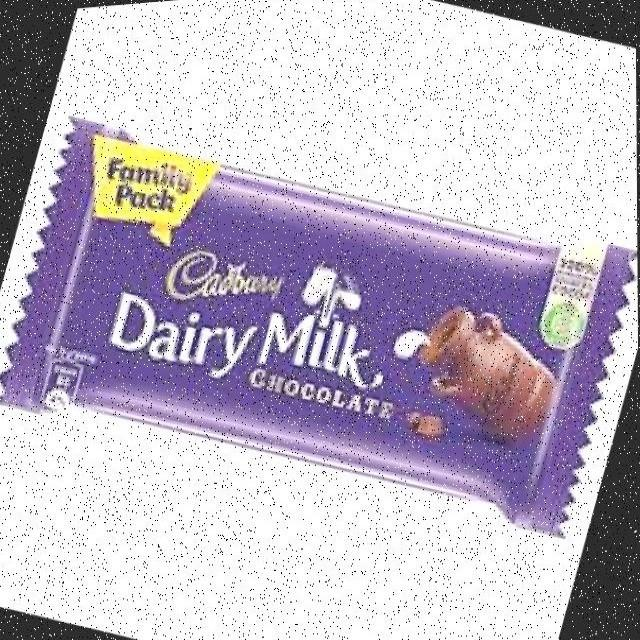cadbury_chocolate: (75, 125, 563, 518)
